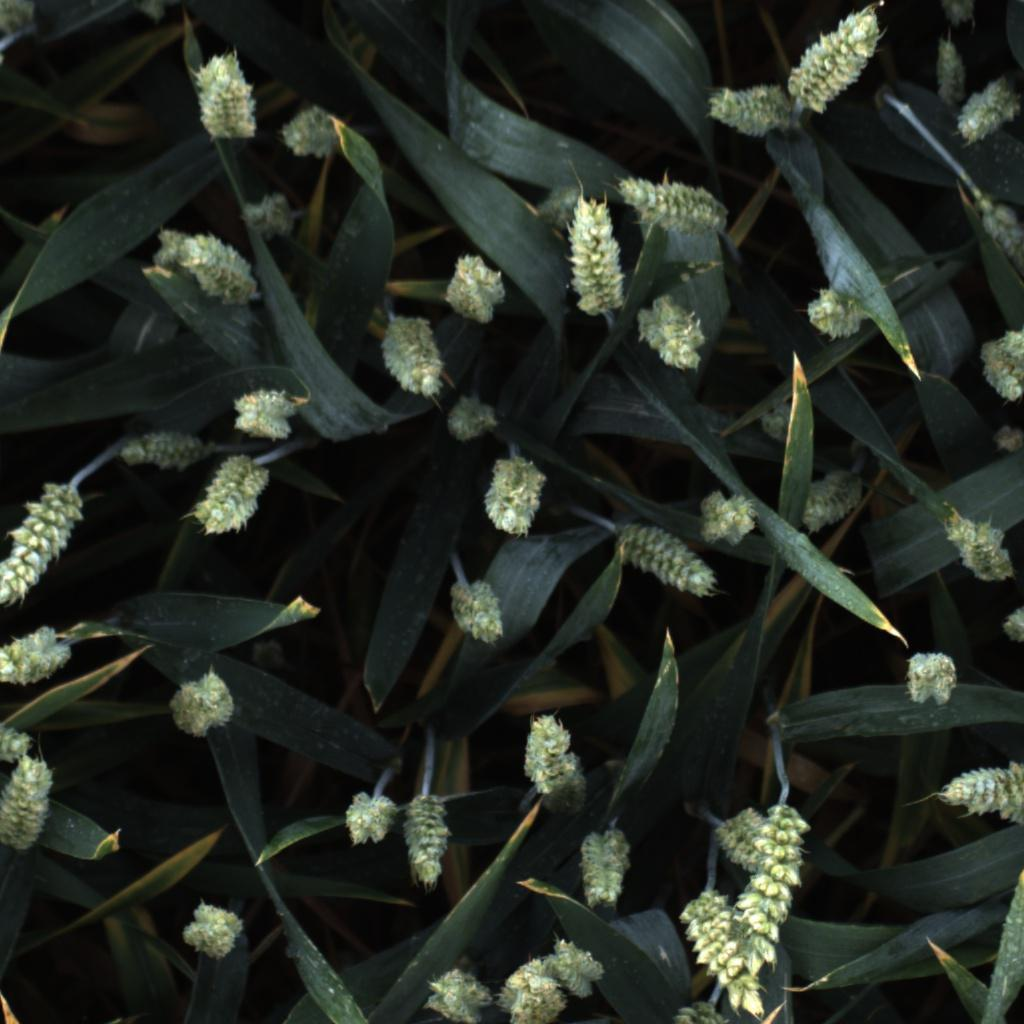0-0: (678, 885, 769, 1018), (0, 476, 88, 608), (749, 805, 814, 966), (597, 520, 720, 604), (788, 0, 881, 111), (142, 222, 261, 306), (185, 454, 271, 542), (566, 198, 628, 318), (613, 173, 737, 232), (375, 312, 450, 402), (183, 54, 259, 142), (929, 752, 1024, 821), (938, 513, 1023, 588), (634, 294, 710, 374), (962, 181, 1020, 284), (567, 831, 635, 915), (950, 71, 1019, 153), (702, 80, 794, 141), (482, 455, 552, 535), (0, 754, 56, 850), (402, 788, 454, 891), (495, 954, 572, 1022), (793, 467, 870, 535), (168, 667, 237, 742), (444, 252, 511, 328), (519, 706, 576, 794), (179, 893, 249, 962), (0, 625, 79, 686), (708, 799, 773, 873), (421, 963, 497, 1024), (231, 383, 300, 447), (114, 426, 202, 476), (543, 934, 608, 1000), (896, 648, 966, 708), (446, 578, 507, 646), (698, 483, 759, 551), (799, 288, 868, 345), (526, 178, 596, 234), (975, 324, 1024, 401), (281, 100, 339, 162), (342, 790, 400, 851), (545, 750, 591, 820), (237, 191, 297, 243), (442, 394, 504, 444), (927, 38, 968, 108), (243, 633, 301, 680), (664, 996, 744, 1024), (0, 716, 41, 769), (762, 397, 800, 446), (984, 417, 1024, 460), (936, 0, 985, 30), (992, 603, 1024, 648)
